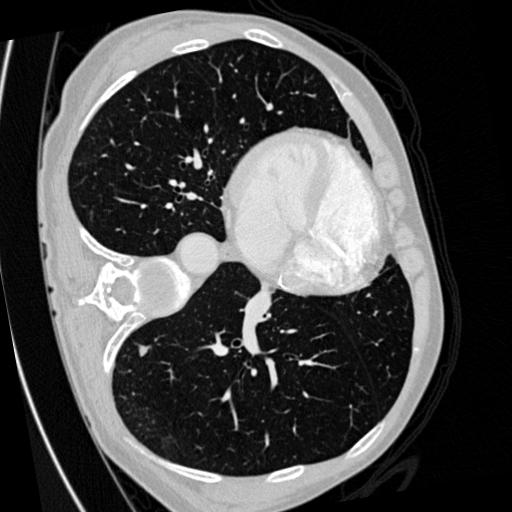nodule: (137, 345, 152, 360)
